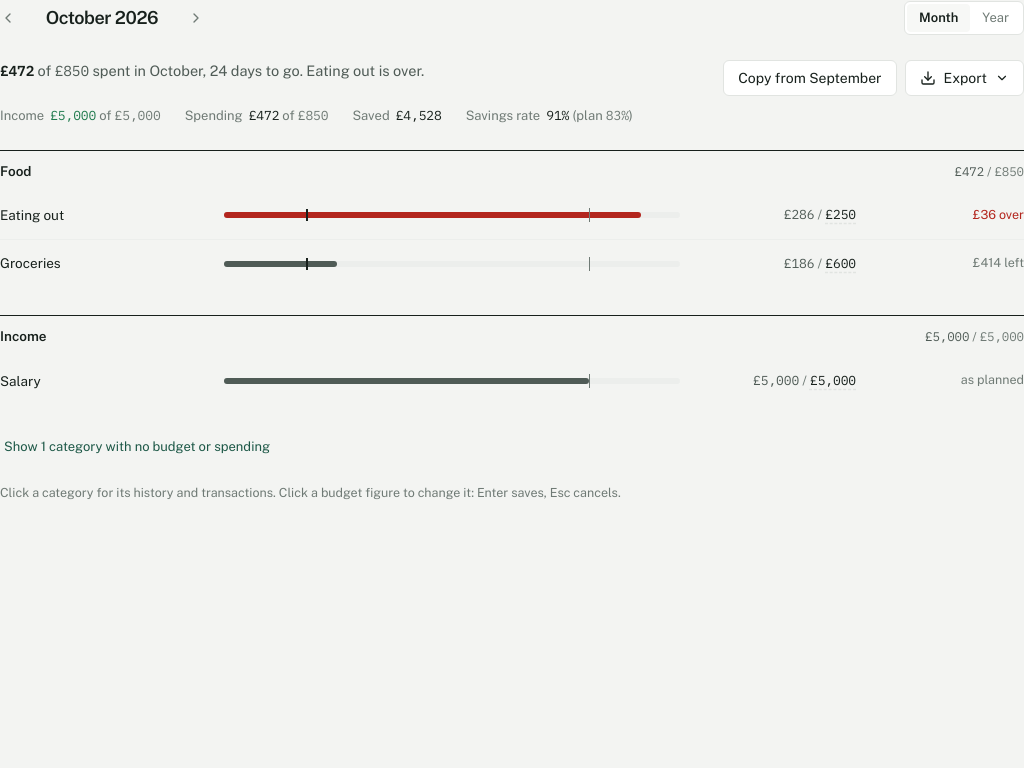
Scenario: BudgetsView › opens a detail panel for a budget line, linking to its transactions
The width and height of the screenshot is (1024, 768).
Expected: the text "24 days to go" is shown, [203,62,300,79]
Click the button "Eating out" at (104, 215), box [0,205,208,225]
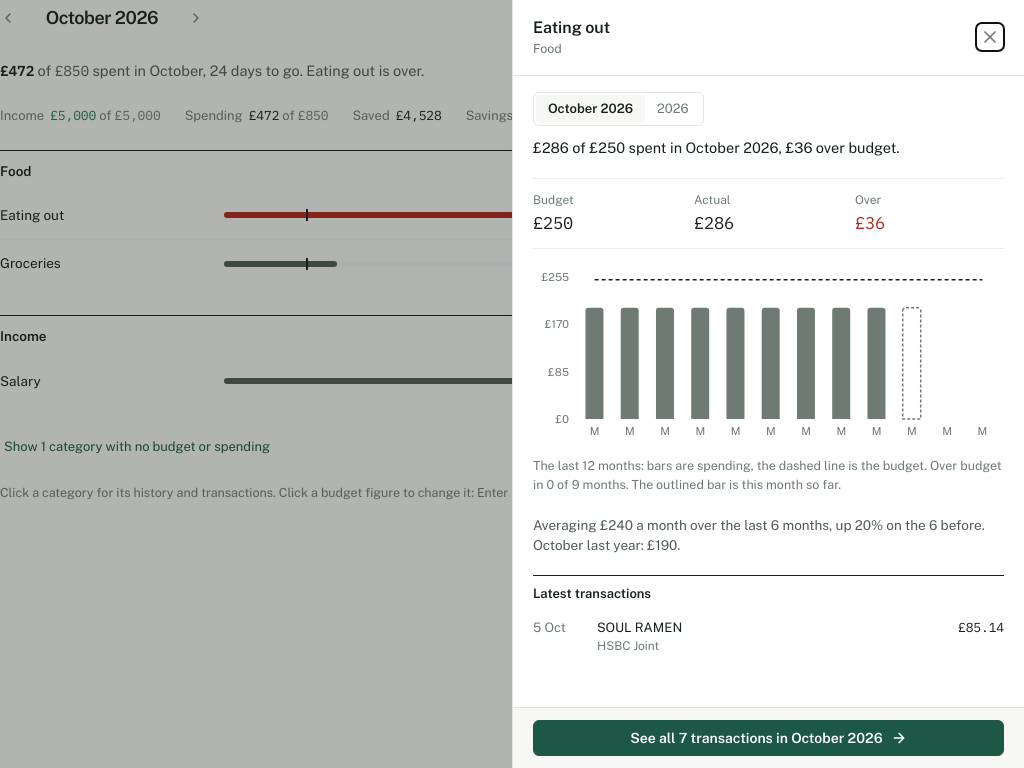
Expected: the text "£286 of £250 spent in October 2026, £36 over budget." is shown, [533,139,900,156]
Expected: the text "SOUL RAMEN" is shown, [597,620,682,635]
Expected: the text "Averaging £240 a month over the last 6 months, up 20% on the 6 before" is shown, [533,517,985,553]
